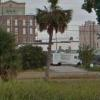Palm tree: (29, 3, 78, 67)
